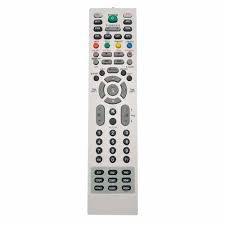remote control: (88, 4, 141, 225)
